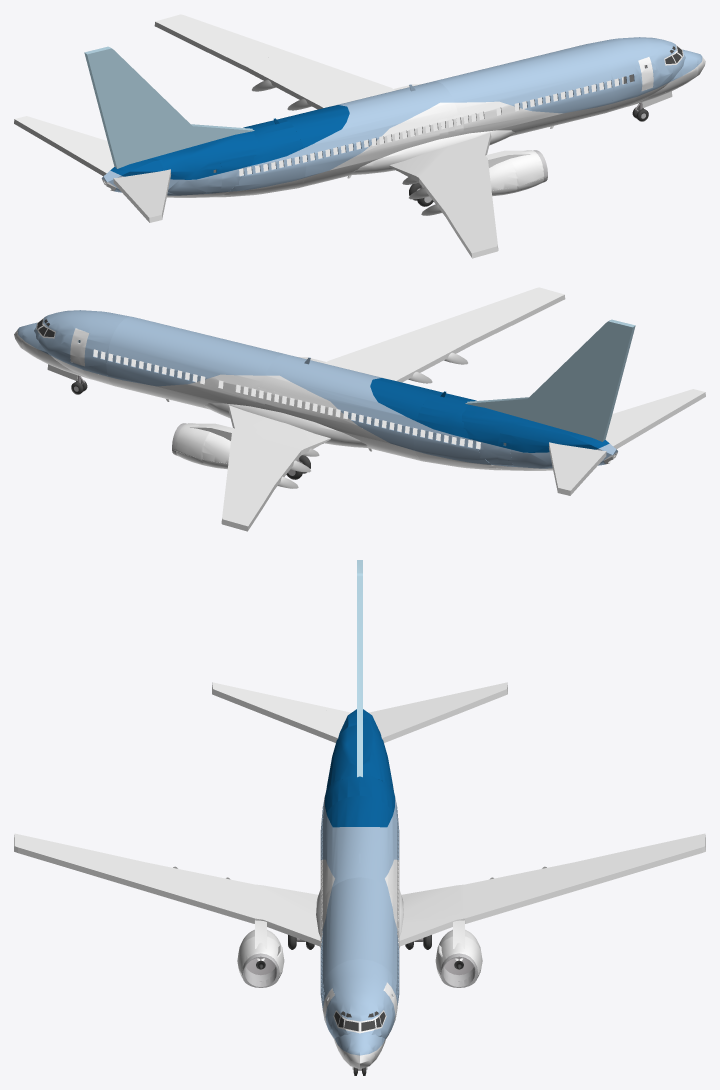
3 views of the same model, one above another, from view 1: azimuth 30°, elevation 25°; view 2: azimuth 150°, elevation 25°; view 3: azimuth 270°, elevation 25° (orthographic). The views are drawn at different scales.
Visible parts, largest first — view 1: Union79, Union8, Union15, Union2, Union10, Wedge23, Union5, Union9, Union80, Wedge18, Union64, Union81 (+18 smaller); view 2: Union79, Union8, Union15, Union2, Wedge18, Union10, Union5, Union9, Union81, Wedge23, Union63, Union80 (+20 smaller); view 3: Union8, Union10, Union15, Wedge23, Wedge18, Union81, Union80, Union64, Union63, Union2, Union7, Union3 (+6 smaller).
Part boxes in pixels (x1,y1,x2,y2): Union79: [84, 46, 254, 168]; Union8: [433, 43, 613, 113]; Union15: [303, 81, 454, 177]; Union2: [110, 131, 257, 179]; Union10: [590, 37, 685, 103]; Wedge23: [246, 37, 391, 107]; Union5: [299, 102, 459, 187]; Union9: [455, 101, 611, 136]; Union80: [14, 116, 114, 176]; Wedge18: [419, 158, 494, 218]; Union64: [389, 132, 491, 182]; Union81: [113, 169, 170, 222]; Union79: [465, 319, 635, 441]; Union8: [106, 316, 286, 386]; Union15: [265, 354, 416, 450]; Union2: [462, 404, 609, 452]; Wedge18: [329, 310, 473, 380]; Union10: [34, 310, 129, 376]; Union5: [260, 375, 420, 460]; Union9: [108, 374, 264, 409]; Union81: [605, 389, 705, 449]; Wedge23: [225, 431, 300, 491]; Union63: [228, 405, 330, 455]; Union80: [549, 442, 606, 495]; Union8: [320, 877, 399, 993]; Union10: [320, 959, 399, 1038]; Union15: [320, 813, 399, 887]; Wedge23: [465, 868, 632, 923]; Wedge18: [87, 868, 254, 923]; Union81: [212, 682, 350, 742]; Union80: [369, 682, 507, 742]; Union64: [254, 884, 320, 946]; Union63: [399, 884, 465, 946]; Union2: [326, 709, 392, 789]; Union7: [326, 795, 393, 827]; Union3: [325, 775, 394, 812].
Size of the model in its own units: 130 by 40.92 by 114.
